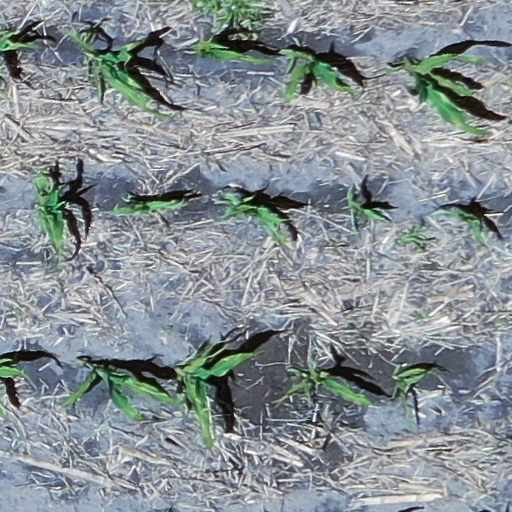planta: (68, 31, 171, 118), (177, 345, 262, 447), (388, 52, 487, 136), (64, 365, 186, 421), (276, 48, 360, 101), (212, 192, 293, 245), (285, 361, 374, 405), (385, 362, 435, 429), (34, 170, 68, 256), (346, 182, 393, 238), (192, 38, 273, 65), (436, 209, 486, 243), (110, 197, 189, 216)
